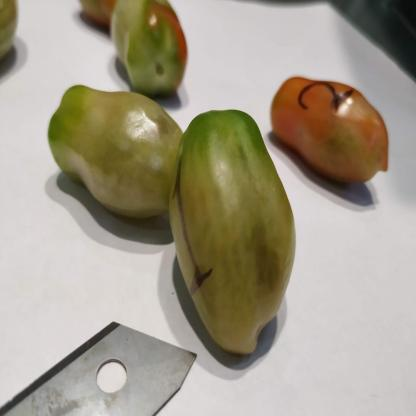T_F_R: (169, 110, 297, 355), (49, 87, 184, 219), (272, 78, 389, 183)
